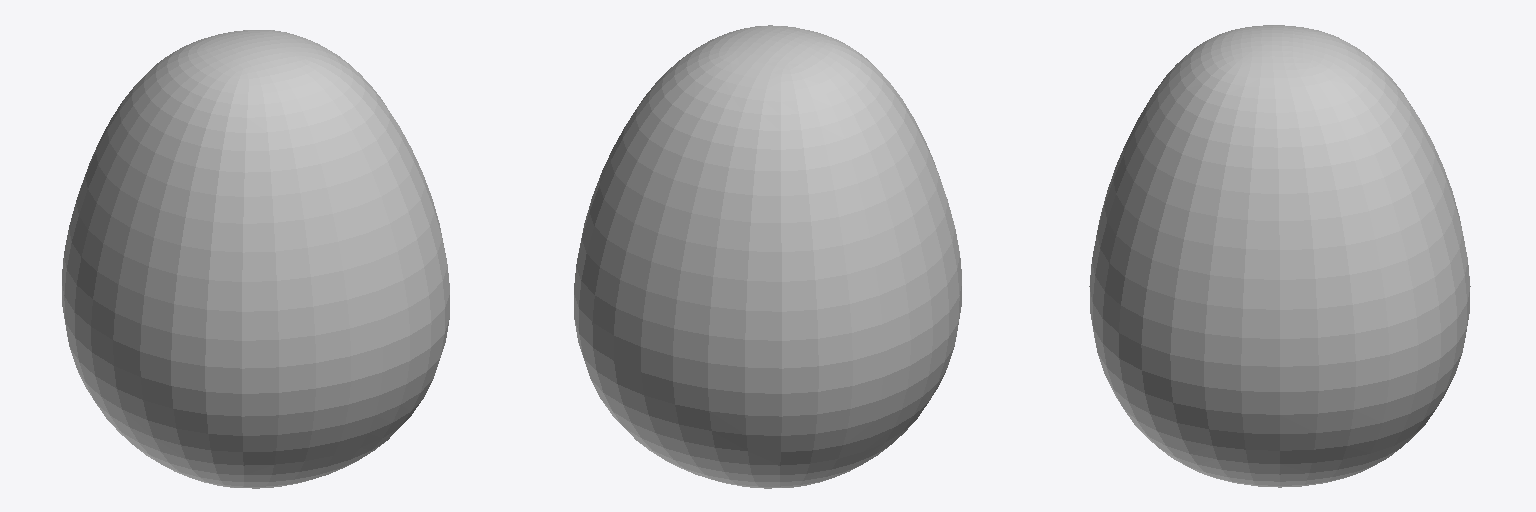
Rendered from huevo.obj.
3 views of the same model, side by side, from view 1: azimuth 30°, elevation 25°; view 2: azimuth 150°, elevation 25°; view 3: azimuth 270°, elevation 25° (orthographic).
Parts seen in each view (by area): view 1: Cube; view 2: Cube; view 3: Cube.
Boxes of the visible parts, x1=… form: Cube: x1=62, y1=30, x2=449, y2=488; Cube: x1=574, y1=25, x2=961, y2=488; Cube: x1=1089, y1=25, x2=1470, y2=487.
Size of the model in its own units: 1.91 by 2.35 by 1.91.